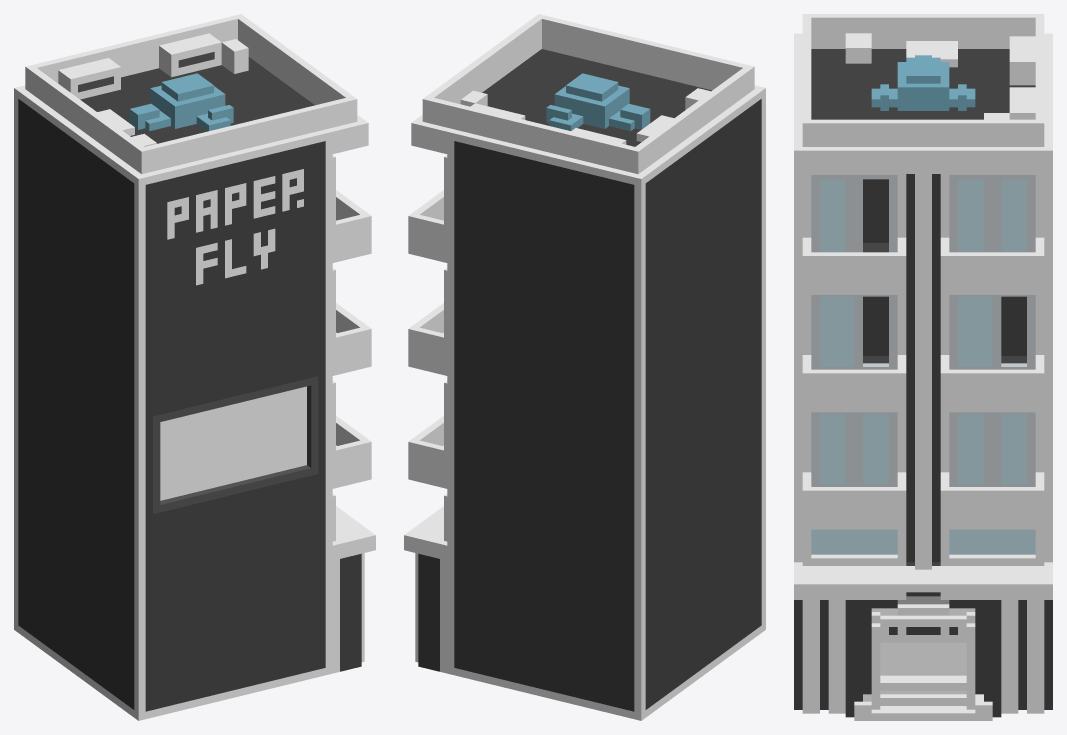
Rendered from Menu_Build_On.obj.
3 views of the same model, side by side, from view 1: azimuth 30°, elevation 25°; view 2: azimuth 150°, elevation 25°; view 3: azimuth 270°, elevation 25° (orthographic). The views are drawn at different scales.
Bounding box in the file's own units: 34 × 75 × 30.
Materials: 1 (1 with a texture image).
